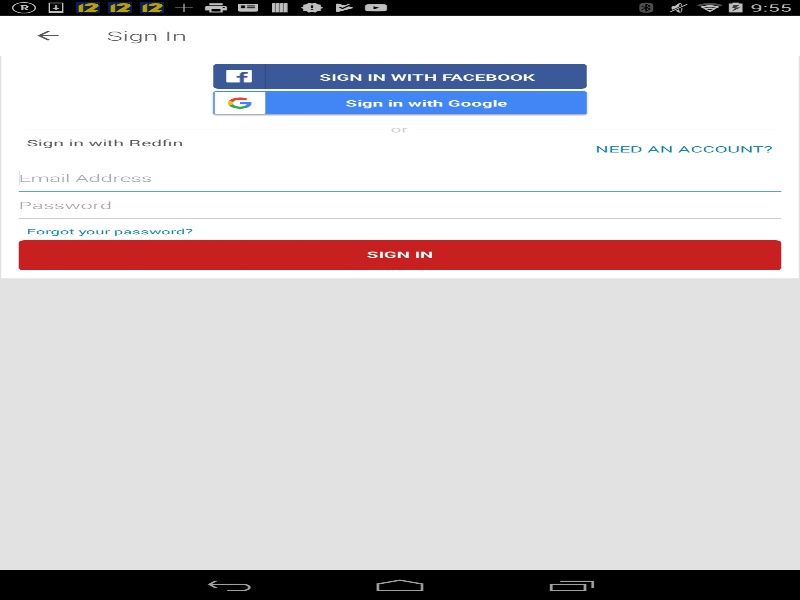Button: (18, 240, 781, 270), (208, 88, 592, 116), (213, 63, 586, 88), (595, 135, 773, 165), (10, 15, 85, 55)
Input: (18, 171, 781, 192), (18, 198, 781, 219)
